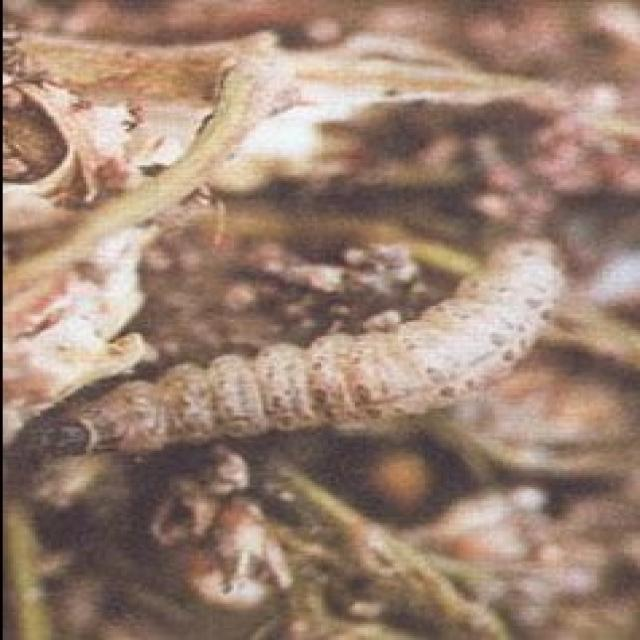peach borer: (42, 230, 569, 472)
